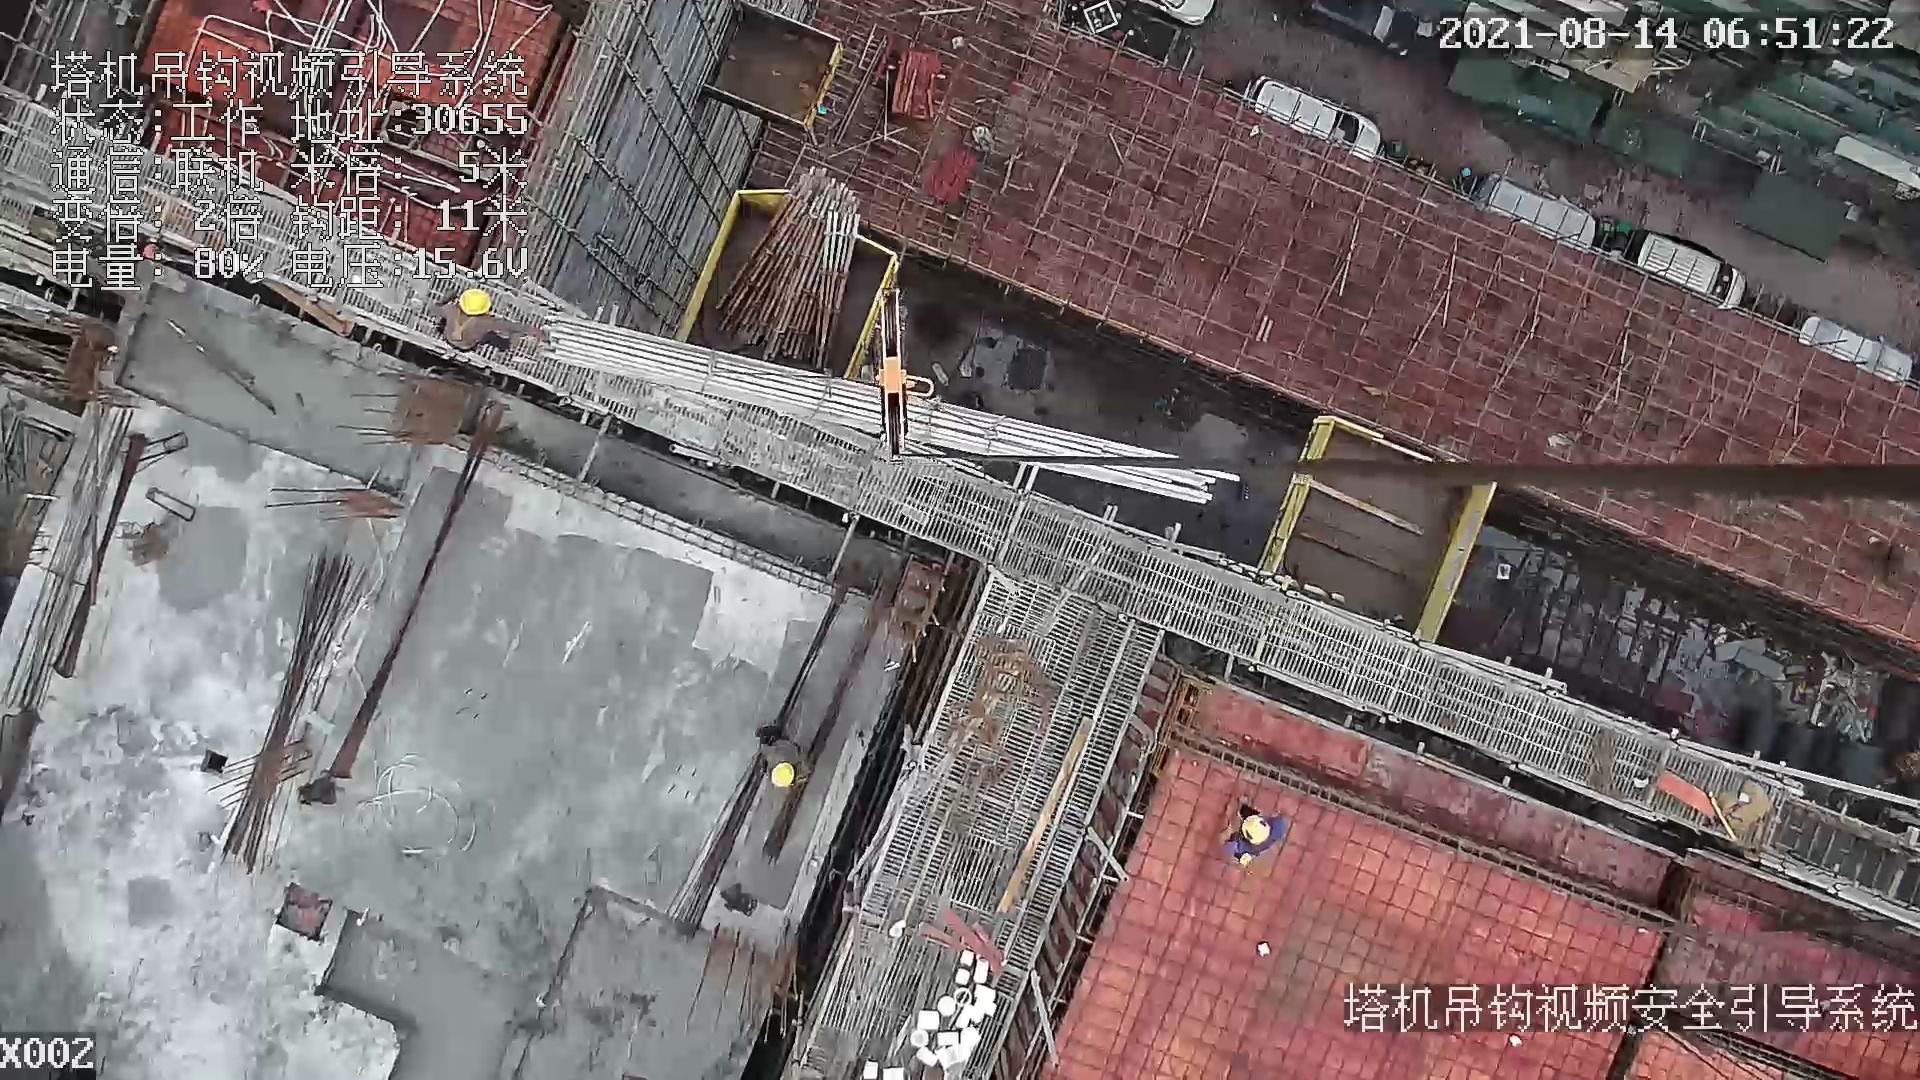helmet: (457, 286, 492, 317), (1239, 816, 1269, 846), (770, 760, 796, 790)
hook: (870, 281, 945, 464)
person: (435, 290, 551, 365), (1220, 795, 1290, 868), (754, 722, 812, 792)
rebar: (548, 312, 1240, 501), (220, 546, 370, 870)
scaffold: (715, 165, 855, 369)
